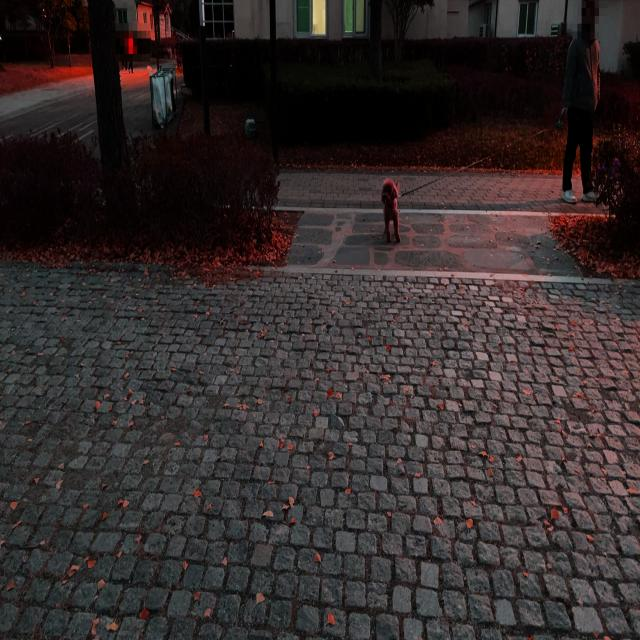Leashed_Dog: (381, 100, 599, 244)
